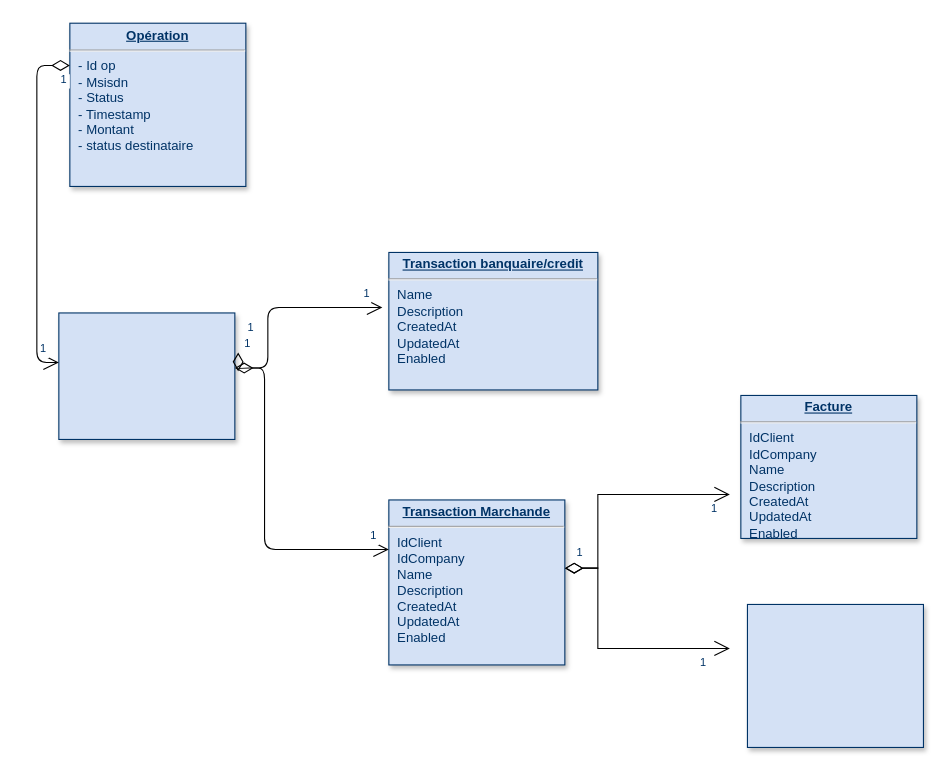
Image size: 949x776. Some labels were removed from this diagram. The shapes that lost their labels are listed below. From the top down, each one's centre as x and y in pixels, then its label:
At (x=147, y=377): "Transaction technique - id op - id transaction - type transaction - status".
At (x=836, y=677): "Abonnement IdClient IdCompany Name Description CreatedAt UpdatedAt Enabled".
